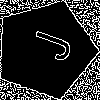J: (20, 24, 74, 64)
